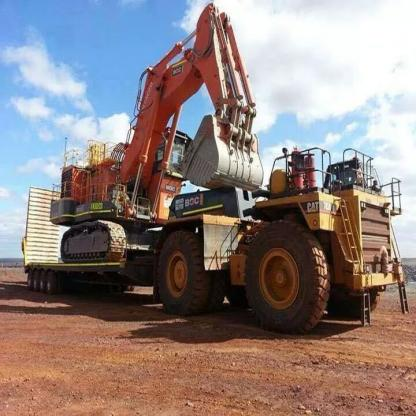excavator: (52, 0, 259, 263)
